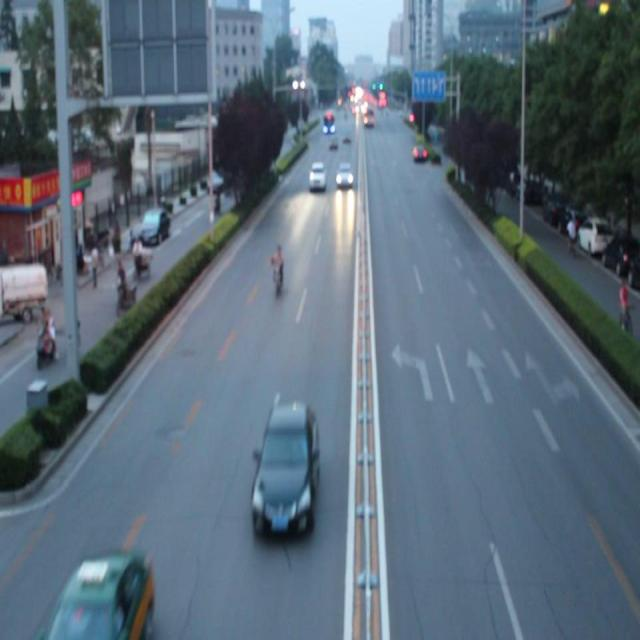car: (47, 548, 155, 640), (249, 404, 320, 538)
